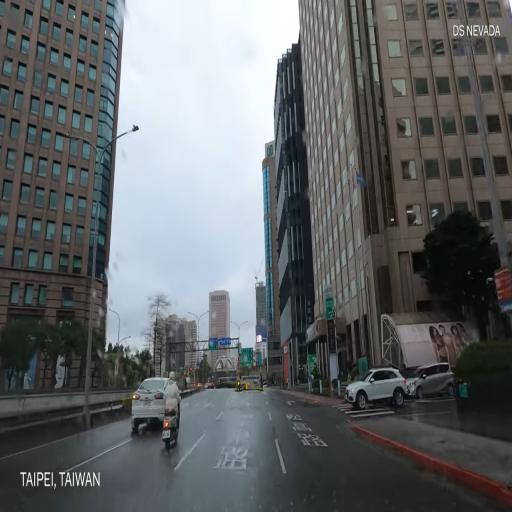Car: (343, 357, 413, 409), (128, 369, 180, 433), (410, 357, 458, 400)
